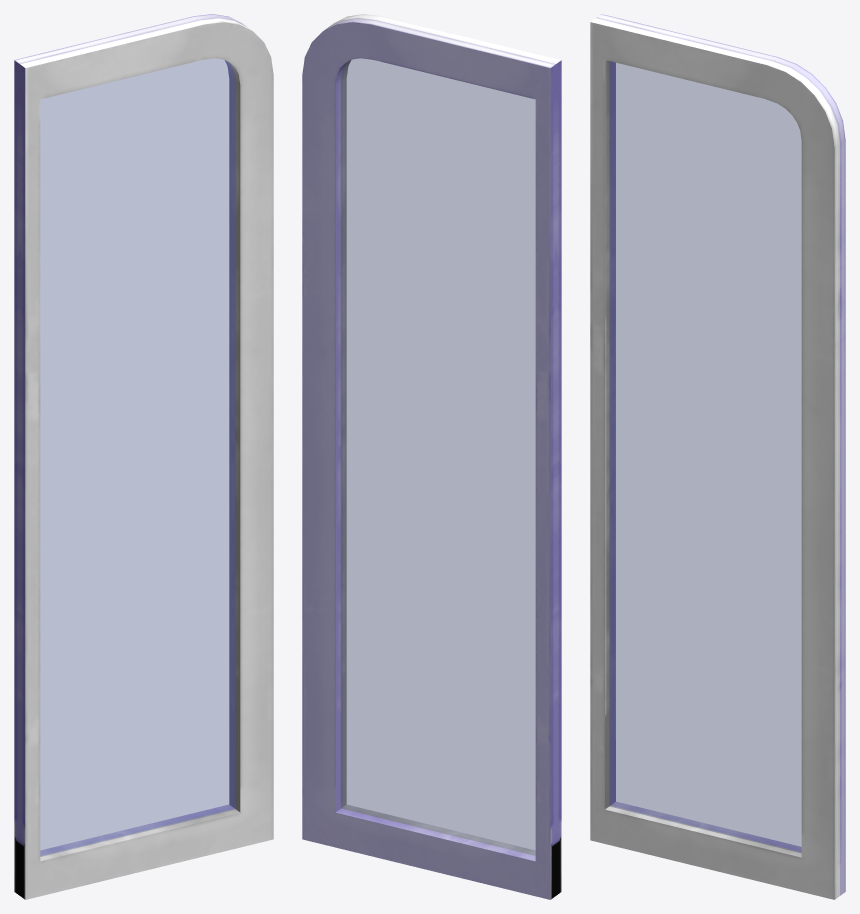
Rendered from doorM2.glb.
The picture shows the model from 3 angles, left to right: view 1: azimuth 30°, elevation 25°; view 2: azimuth 150°, elevation 25°; view 3: azimuth 330°, elevation 25°; orthographic projection.
Parts seen in each view (by area): view 1: doorR; view 2: doorR; view 3: doorR.
Boxes of the visible parts, left/top/right/bottom form: doorR: left=14, top=14, right=273, bottom=899; doorR: left=302, top=14, right=561, bottom=899; doorR: left=590, top=14, right=845, bottom=899.
Size of what is drawn, in the model's own units: 1.22 by 3.92 by 0.0958.
Materials: 2 (1 with a texture image).
